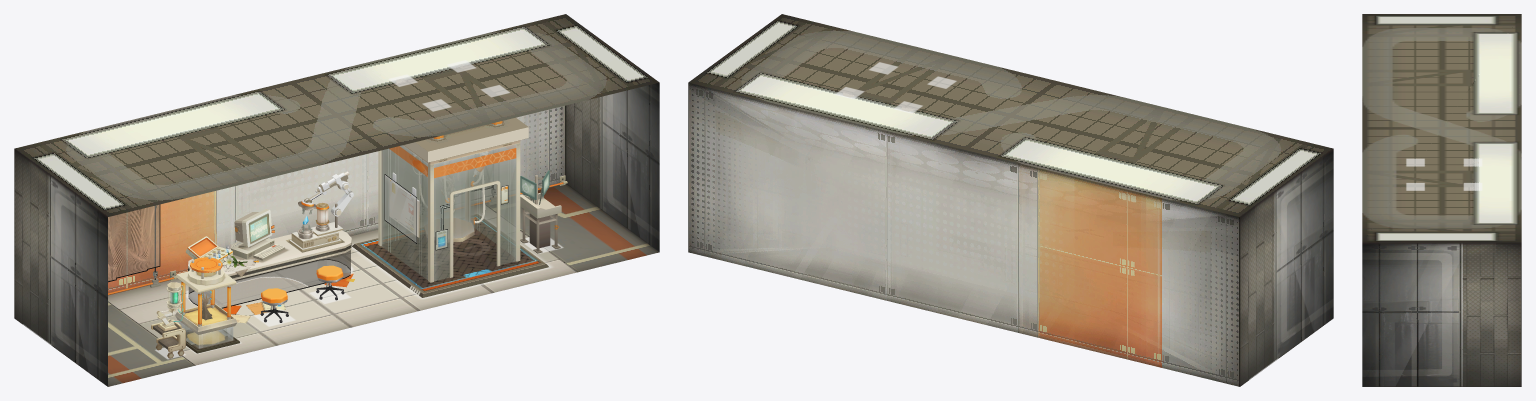
File: rhineLab.glb
3 renders of one model, left to right at view 1: azimuth 30°, elevation 25°; view 2: azimuth 150°, elevation 25°; view 3: azimuth 270°, elevation 25°, orthographic. The views are drawn at different scales.
Visible parts, largest first — view 1: ROOM_room, ROOM_floor, furni_rhineLab_device_01, furni_rhineLab_device_03, furni_rhineLab_table_01, furni_rhineLab_plant_01, furni_rhineLab_curtain_L_02, furni_rhineLab_table_03, shadow_01.006, furni_rhineLab_stand_01, ROOM_LDoor, ROOM_RDoor (+6 smaller); view 2: ROOM_room, ROOM_LDoor, shadow_02; view 3: ROOM_room, ROOM_RDoor, shadow_02.
Part boxes in pixels (x1,y1,x2,y2): ROOM_room: (14, 14, 659, 386); ROOM_floor: (108, 184, 659, 386); furni_rhineLab_device_01: (352, 64, 548, 297); furni_rhineLab_device_03: (381, 144, 516, 281); furni_rhineLab_table_01: (185, 171, 353, 279); furni_rhineLab_plant_01: (175, 255, 239, 353); furni_rhineLab_curtain_L_02: (108, 204, 160, 282); furni_rhineLab_table_03: (188, 250, 350, 308); shadow_01.006: (186, 260, 353, 307); furni_rhineLab_stand_01: (520, 170, 561, 253); ROOM_LDoor: (75, 286, 94, 376); ROOM_RDoor: (626, 151, 645, 241); ROOM_room: (688, 14, 1333, 386); ROOM_LDoor: (1300, 251, 1319, 341); shadow_02: (835, 62, 956, 113); ROOM_room: (1362, 14, 1521, 386); ROOM_RDoor: (1385, 321, 1418, 386); shadow_02: (1406, 158, 1482, 190).
Bounding box in the file's own units: 7.52 × 2.21 × 2.2.
7 materials, 7 textured.
